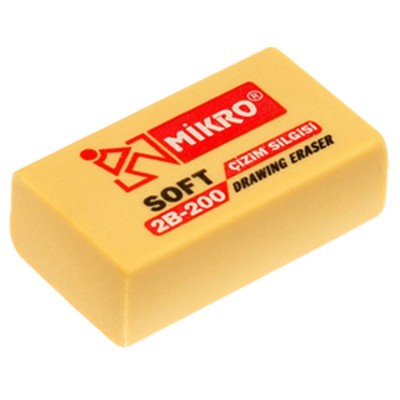eraser: (4, 43, 393, 356)
